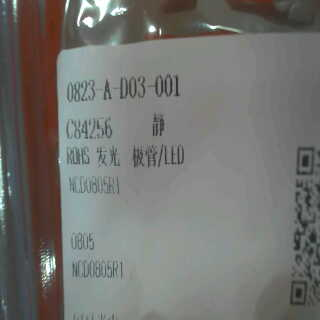LED: (91, 144, 192, 168)
